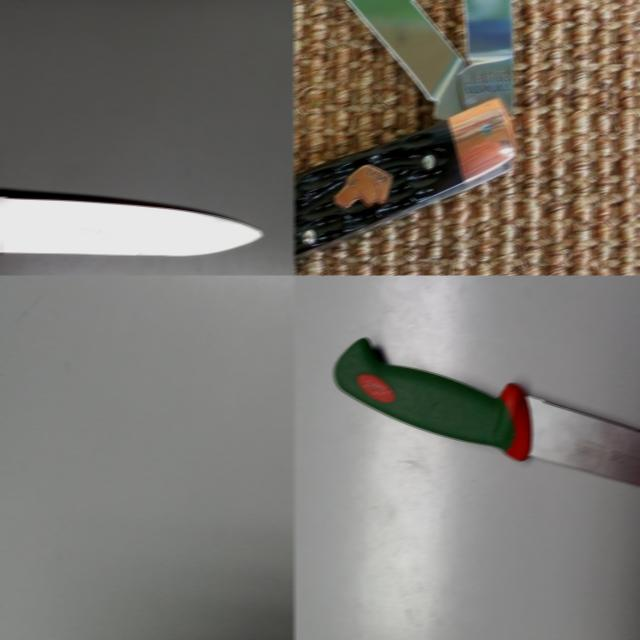Knife: (333, 337, 640, 486), (0, 190, 262, 255)
